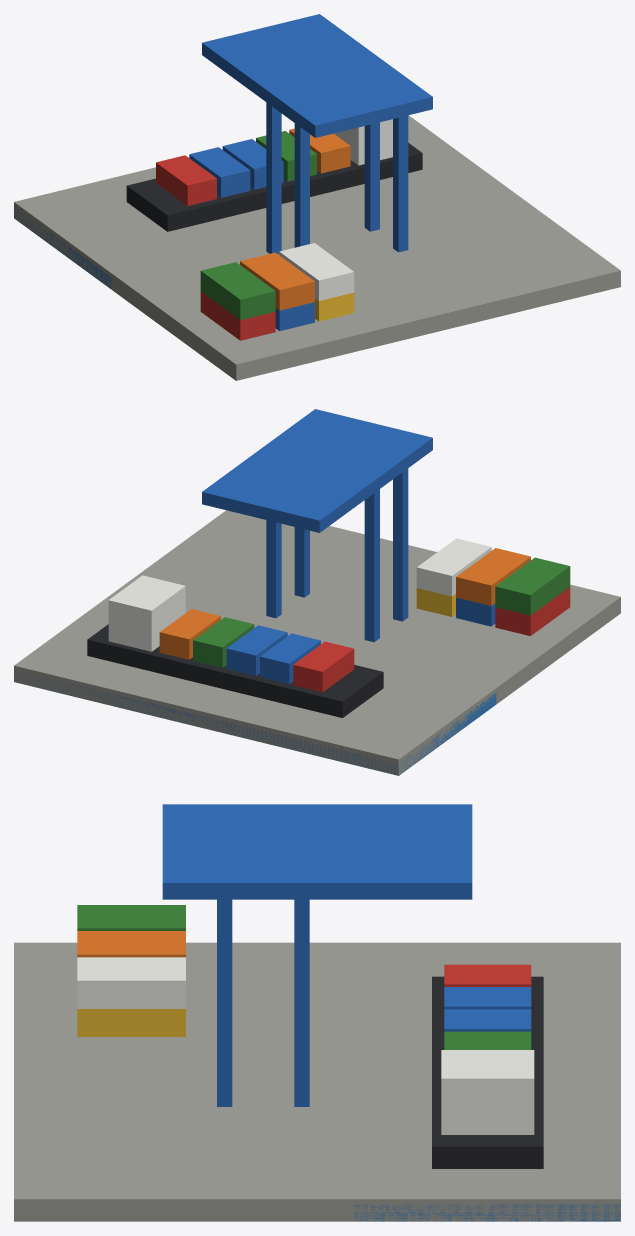
File: port_vladivostok.glb
3 views of the same model, one above another, from view 1: azimuth 30°, elevation 25°; view 2: azimuth 150°, elevation 25°; view 3: azimuth 270°, elevation 25° (orthographic). The views are drawn at different scales.
Parts seen in each view (by area): view 1: port_vladivostok; view 2: port_vladivostok; view 3: port_vladivostok.
Boxes of the visible parts, x1,y1,x2,y2 form: port_vladivostok: (14, 14, 620, 380); port_vladivostok: (14, 409, 620, 775); port_vladivostok: (14, 804, 620, 1221).
Size of the model in its own units: 1.96 by 0.89 by 1.96.
